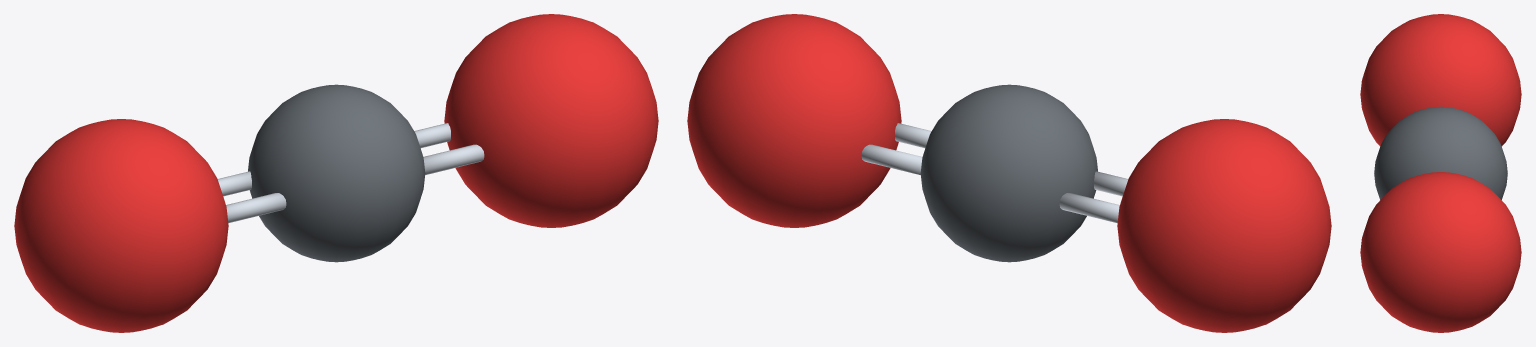
The model's file is carbon_dioxide_co2.glb.
The picture shows the model from 3 angles, left to right: view 1: azimuth 30°, elevation 25°; view 2: azimuth 150°, elevation 25°; view 3: azimuth 270°, elevation 25°; orthographic projection. The views are drawn at different scales.
Parts seen in each view (by area): view 1: Oxygen_left, Oxygen_right, Carbon_C, DoubleBond_CO2_1_0, DoubleBond_CO2_-1_0, DoubleBond_CO2_1_1, DoubleBond_CO2_-1_1; view 2: Oxygen_left, Oxygen_right, Carbon_C, DoubleBond_CO2_1_1, DoubleBond_CO2_-1_1, DoubleBond_CO2_1_0, DoubleBond_CO2_-1_0; view 3: Oxygen_right, Oxygen_left, Carbon_C.
Boxes of the visible parts, <box> form: Oxygen_left: <box>14,119,228,332</box>; Oxygen_right: <box>444,14,658,227</box>; Carbon_C: <box>248,84,425,262</box>; DoubleBond_CO2_1_0: <box>423,144,484,174</box>; DoubleBond_CO2_-1_0: <box>226,193,286,223</box>; DoubleBond_CO2_1_1: <box>414,123,450,147</box>; DoubleBond_CO2_-1_1: <box>217,171,251,196</box>; Oxygen_left: <box>1117,119,1331,332</box>; Oxygen_right: <box>687,14,901,227</box>; Carbon_C: <box>920,84,1097,262</box>; DoubleBond_CO2_1_1: <box>861,144,922,174</box>; DoubleBond_CO2_-1_1: <box>1059,193,1119,223</box>; DoubleBond_CO2_1_0: <box>895,123,931,147</box>; DoubleBond_CO2_-1_0: <box>1094,171,1128,196</box>; Oxygen_right: <box>1360,172,1521,332</box>; Oxygen_left: <box>1360,14,1521,146</box>; Carbon_C: <box>1374,106,1507,199</box>.
Bounding box in the file's own units: 2.72 × 0.82 × 0.82.
